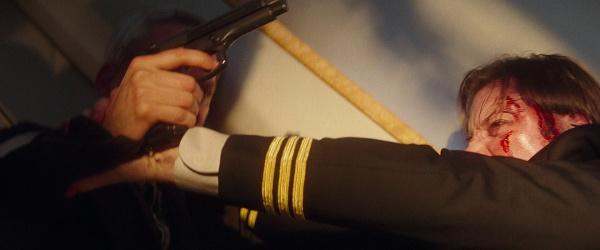Gun: (143, 0, 289, 150)
